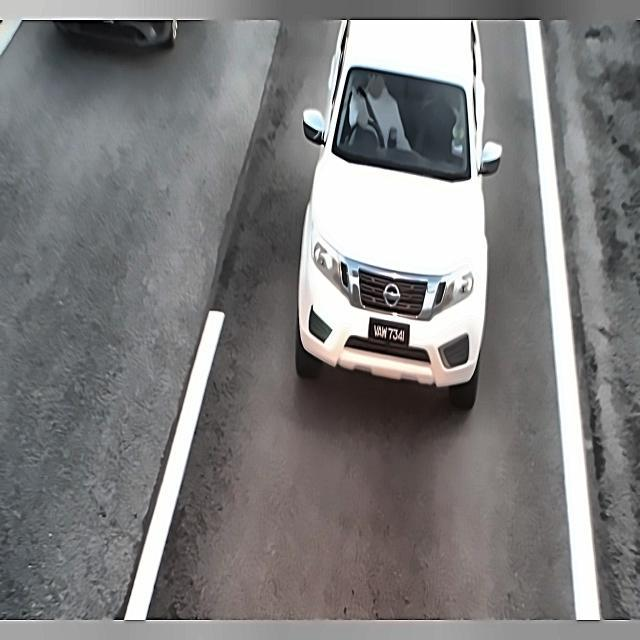car: (369, 308, 410, 357)
